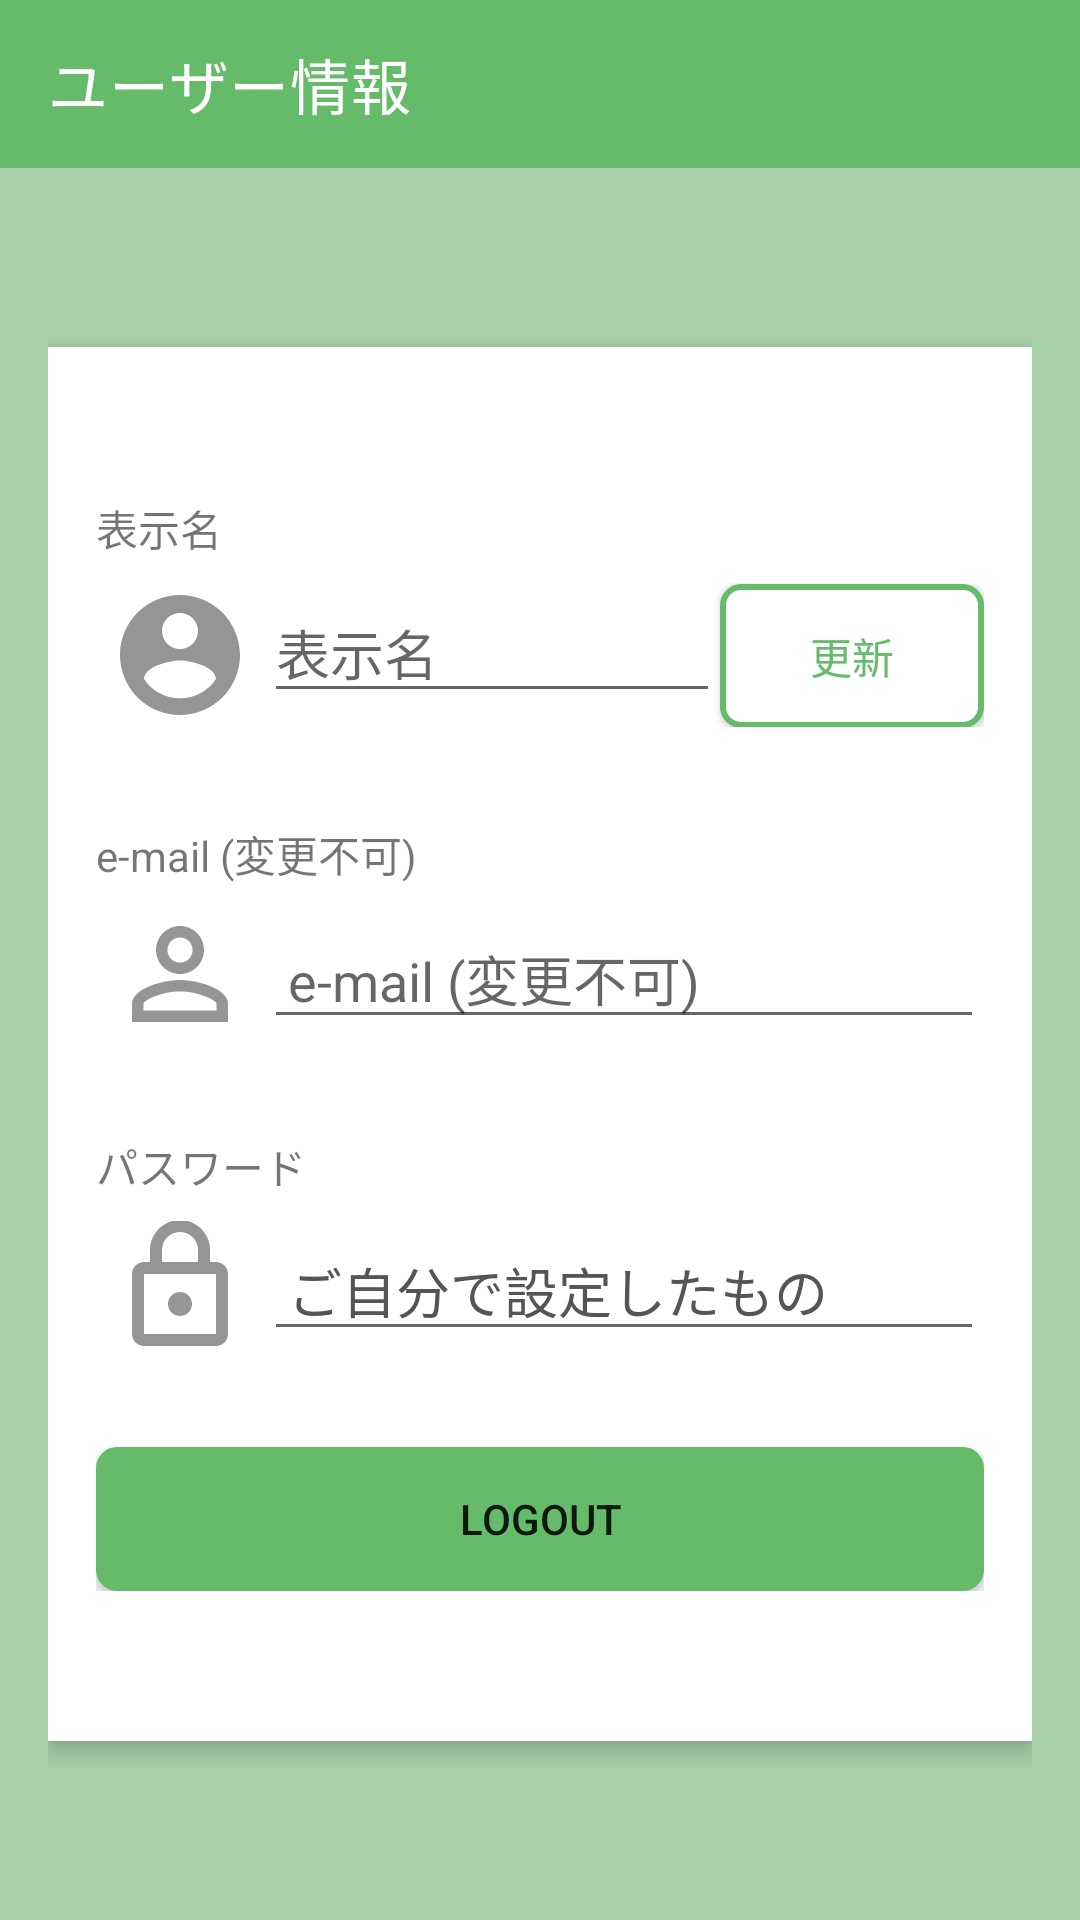

Icons on this 1080 × 1920 Android screen, each with its box as [x1=x1, y1=y1, x2=x2, y2=y2]:
account circle: [x1=120, y1=595, x2=240, y2=715]
perm identity: [x1=132, y1=926, x2=228, y2=1022]
鍵の画像: [x1=132, y1=1221, x2=228, y2=1346]
